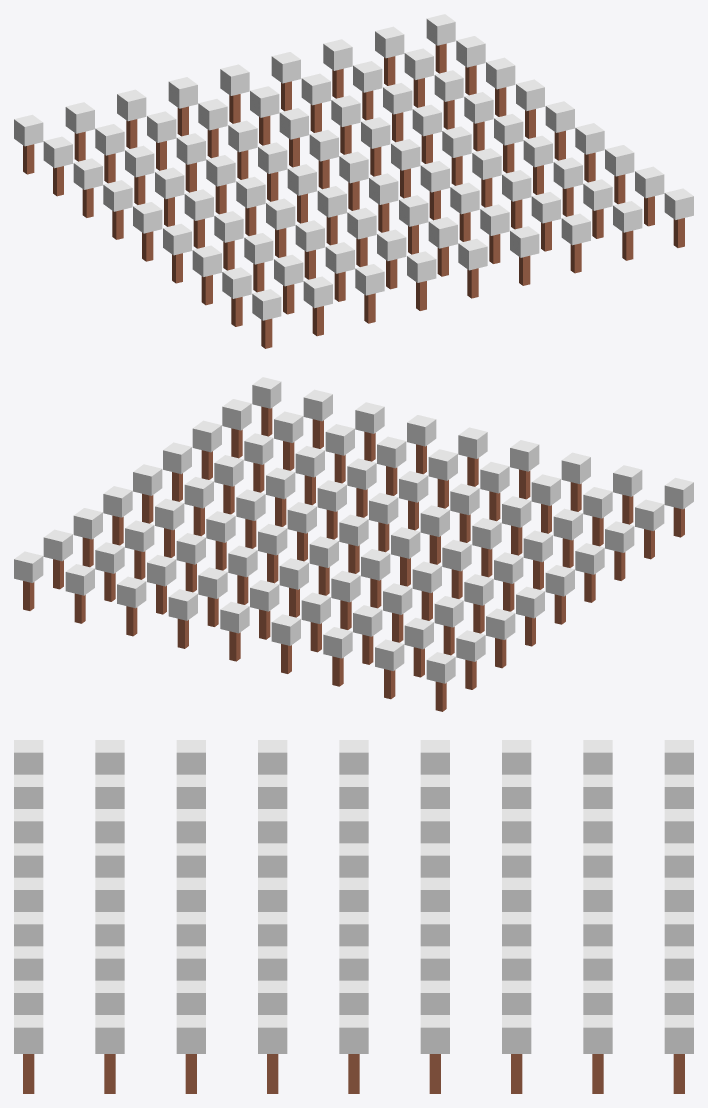
The model's file is cotton_plantation.fbx.
3 views of the same model, one above another, from view 1: azimuth 30°, elevation 25°; view 2: azimuth 150°, elevation 25°; view 3: azimuth 270°, elevation 25° (orthographic). The views are drawn at different scales.
Parts seen in each view (by area): view 1: Cube.001; view 2: Cube.001; view 3: Cube.001.
Boxes of the visible parts, x1=… form: Cube.001: x1=14, y1=14, x2=693, y2=348; Cube.001: x1=14, y1=377, x2=693, y2=711; Cube.001: x1=14, y1=740, x2=693, y2=1093.
Size of the model in its own units: 8.36 by 0.9521 by 8.36.
